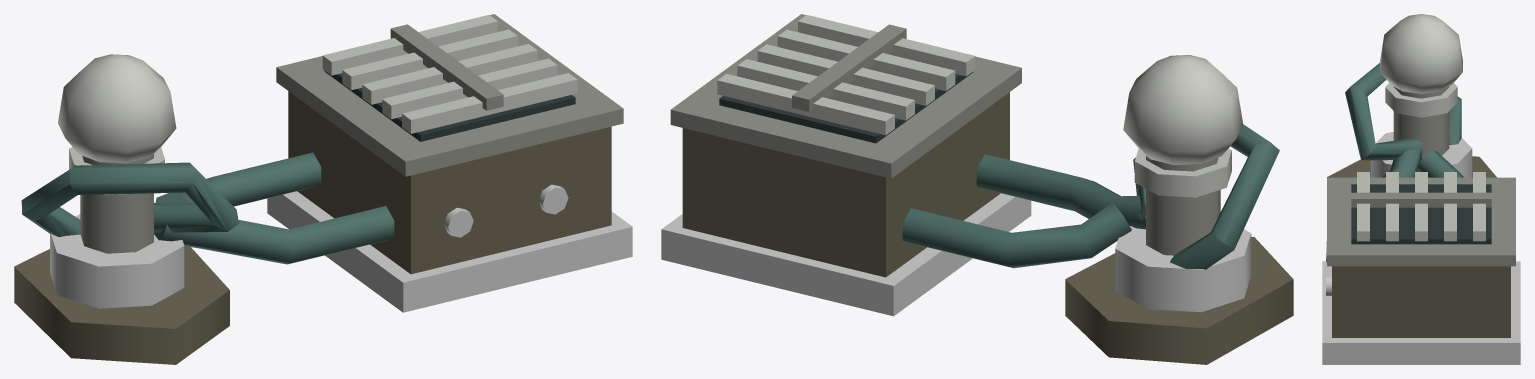
Rendered from mechband_antenna.obj.
3 views of the same model, side by side, from view 1: azimuth 30°, elevation 25°; view 2: azimuth 150°, elevation 25°; view 3: azimuth 270°, elevation 25° (orthographic). The views are drawn at different scales.
Parts seen in each view (by area): view 1: source_component_001, source_component_002, source_component_012, source_component_000, source_component_016, source_component_019, source_component_013, source_component_018, source_component_014, source_component_017, source_component_004, source_component_008 (+7 smaller); view 2: source_component_001, source_component_012, source_component_002, source_component_000, source_component_016, source_component_017, source_component_013, source_component_018, source_component_019, source_component_014, source_component_008, source_component_005 (+6 smaller); view 3: source_component_001, source_component_002, source_component_000, source_component_016, source_component_003, source_component_019, source_component_014, source_component_009, source_component_015, source_component_013, source_component_004, source_component_005 (+6 smaller).
Part boxes in pixels (x1,y1,x2,y2): source_component_001: (288, 91, 611, 274); source_component_002: (276, 14, 623, 176); source_component_012: (14, 246, 229, 364); source_component_000: (267, 191, 632, 312); source_component_016: (58, 54, 176, 163); source_component_019: (21, 162, 239, 236); source_component_013: (50, 214, 184, 308); source_component_018: (154, 206, 394, 264); source_component_014: (80, 154, 153, 253); source_component_017: (155, 152, 321, 206); source_component_004: (402, 73, 577, 133); source_component_008: (322, 15, 497, 75); source_component_001: (682, 92, 1009, 277); source_component_012: (1065, 237, 1293, 364); source_component_002: (670, 14, 1021, 178); source_component_000: (661, 193, 1031, 316); source_component_016: (1123, 55, 1243, 164); source_component_017: (902, 202, 1131, 268); source_component_013: (1115, 226, 1251, 312); source_component_018: (976, 154, 1145, 229); source_component_019: (1133, 124, 1279, 269); source_component_014: (1146, 156, 1220, 255); source_component_008: (717, 73, 894, 135); source_component_005: (777, 29, 955, 90); source_component_001: (1332, 266, 1510, 337); source_component_002: (1327, 177, 1515, 266); source_component_000: (1322, 261, 1520, 364); source_component_016: (1380, 14, 1462, 93); source_component_003: (1351, 184, 1491, 244); source_component_019: (1345, 63, 1461, 160); source_component_014: (1393, 86, 1449, 159); source_component_009: (1351, 192, 1491, 207); source_component_015: (1385, 83, 1457, 117); source_component_013: (1370, 132, 1472, 177); source_component_004: (1357, 172, 1369, 241); source_component_005: (1386, 172, 1398, 241).
Bounding box in the file's own units: 1.83 × 0.86 × 0.82.
